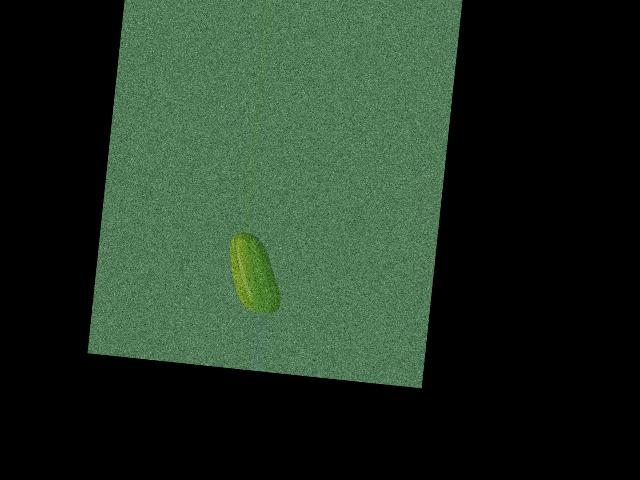cucumber: (223, 231, 287, 315)
